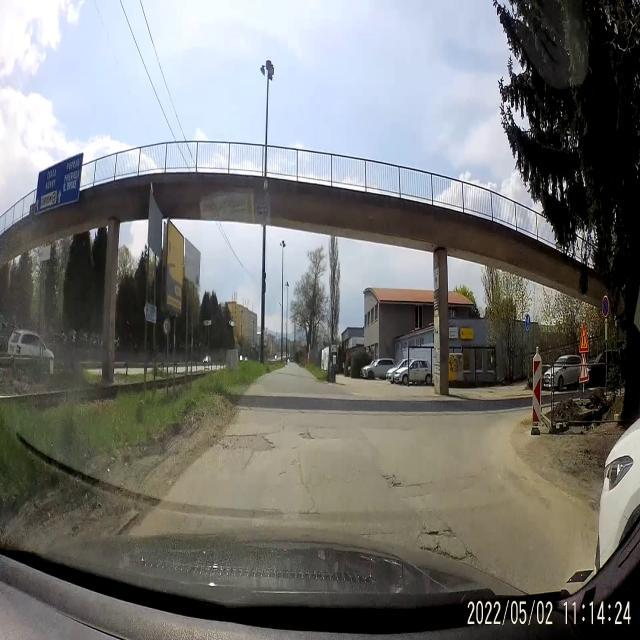Pothole: (418, 520, 472, 564), (213, 428, 279, 456), (377, 463, 414, 496), (291, 424, 318, 447)
